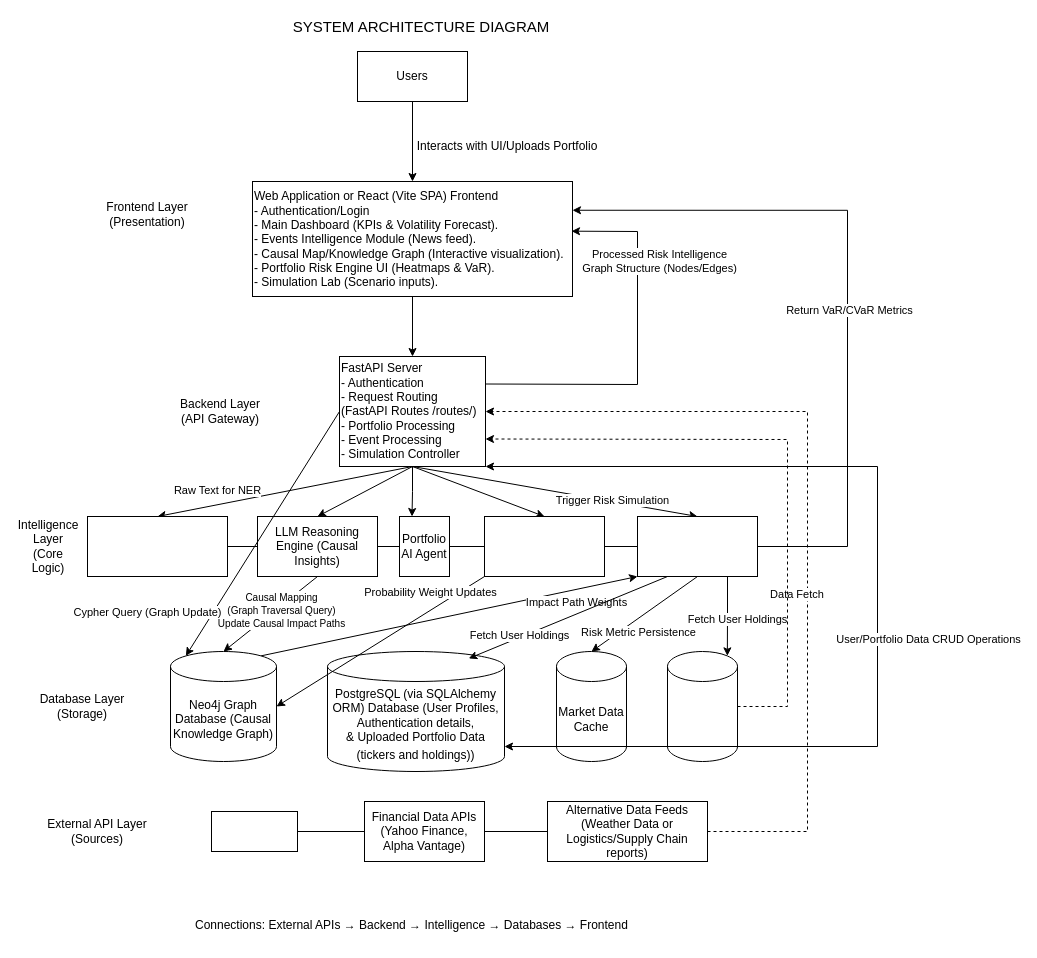
Some shapes in this 1037 by 958 pixel diagram are drawn without their labels. The shapes that lost their labels are listed below. From the top down, each one's box as (x1, y1, x2, y2) in pixels, then its label:
(86, 516, 228, 576): NLP Engine (Named Entity Recognition (NER)+ Event Detection & Classification)
(484, 516, 604, 576): Graph Logic (Neo4j Traversal) Bayesian Risk Propagation
(636, 516, 758, 576): Monte Carlo Simulation Engine ( Computes portfolio Value-at-Risk (VaR))
(666, 650, 738, 762): User Portfolio Data
(210, 810, 298, 852): News APIs (NewsAPI)
